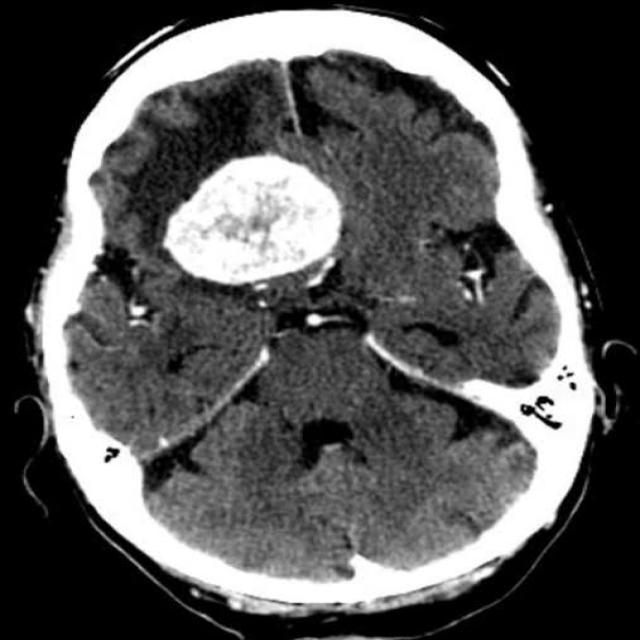Meningioma: (163, 154, 340, 285)
